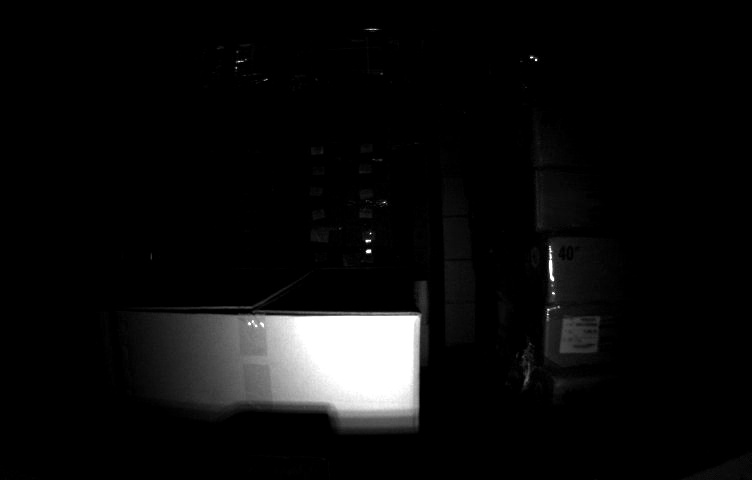True Barcode: (563, 315, 603, 353)
